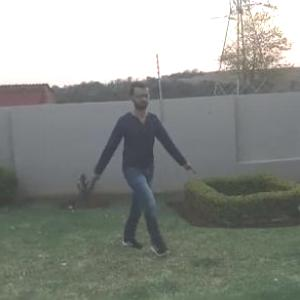land: (72, 75, 192, 276)
